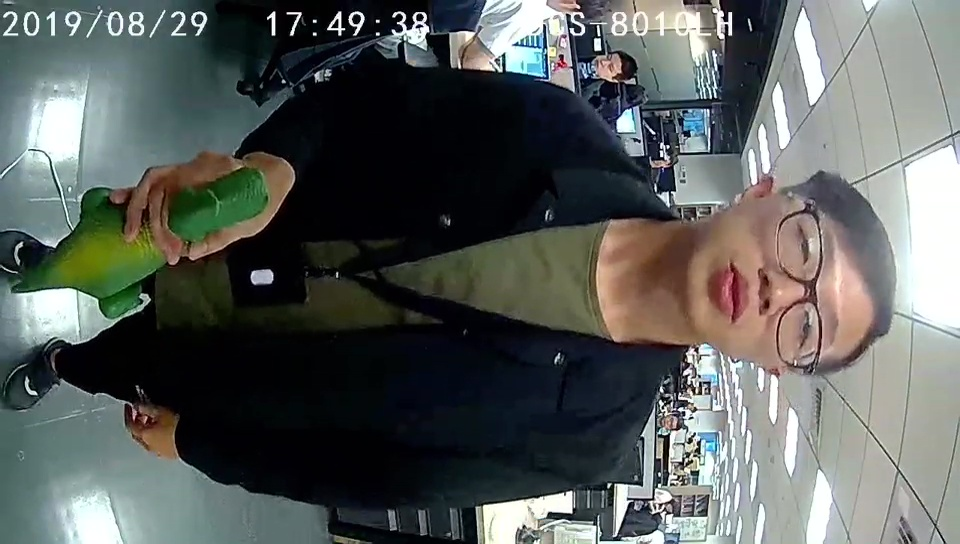rex: (50, 163, 270, 322)
